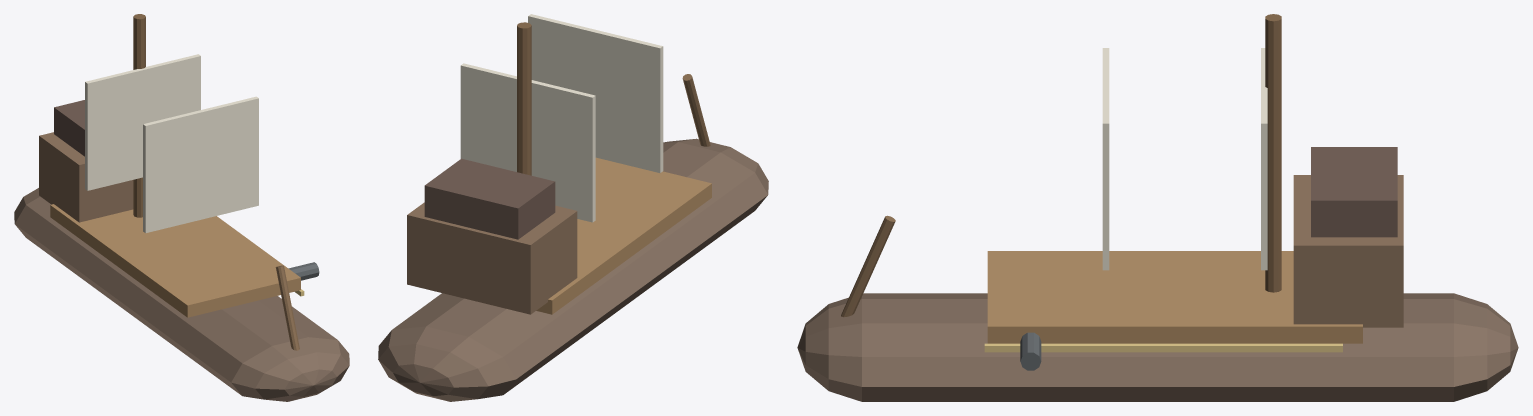
Rendered from ship_starter_large_m201.glb.
3 views of the same model, side by side, from view 1: azimuth 30°, elevation 25°; view 2: azimuth 150°, elevation 25°; view 3: azimuth 270°, elevation 25° (orthographic). The views are drawn at different scales.
Parts seen in each view (by area): view 1: Hull, Deck, Sail0, Sail1, SternCastle, Cabin, Mast, Bowsprit, Cannon; view 2: Hull, Sail0, SternCastle, Sail1, Deck, Cabin, Mast, Bowsprit; view 3: Hull, Deck, SternCastle, Cabin, Mast, Trim, Sail0, Sail1, Bowsprit, Cannon.
Part boxes in pixels (box(x1,y1,x2,y2)): Hull: box(14, 188, 349, 401); Deck: box(50, 204, 300, 317); Sail0: box(143, 96, 258, 233); Sail1: box(85, 54, 200, 190); SternCastle: box(39, 132, 133, 222); Cabin: box(54, 100, 84, 156); Mast: box(133, 14, 145, 217); Bowsprit: box(275, 265, 299, 350); Cannon: box(288, 262, 319, 280); Hull: box(378, 138, 768, 401); Sail0: box(528, 14, 663, 172); SternCastle: box(407, 202, 577, 314); Sail1: box(460, 63, 595, 222); Deck: box(536, 157, 711, 314); Cabin: box(424, 158, 555, 239); Mast: box(517, 22, 531, 175); Bowsprit: box(682, 74, 710, 146); Hull: box(797, 293, 1518, 401); Deck: box(987, 251, 1362, 343); SternCastle: box(1293, 175, 1403, 327); Cabin: box(1311, 147, 1397, 237); Mast: box(1265, 14, 1281, 292); Trim: box(984, 343, 1342, 352); Sail0: box(1102, 48, 1109, 270); Sail1: box(1261, 48, 1267, 270); Bowsprit: box(841, 215, 895, 317); Cannon: box(1020, 332, 1041, 370).
Bounding box in the file's own units: 2.3 × 4.02 × 7.18.
